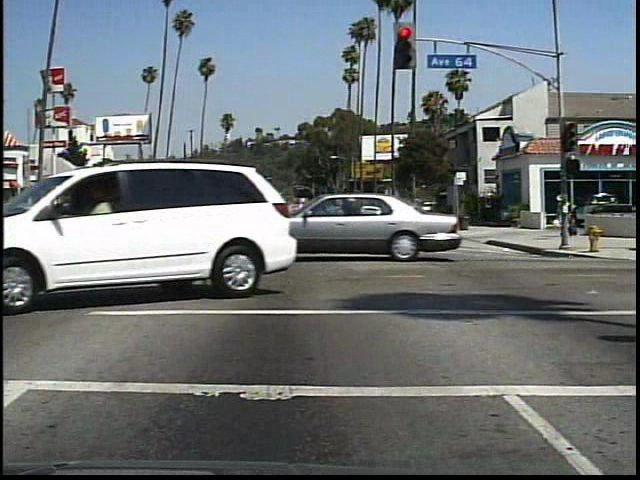person: (550, 188, 577, 233)
